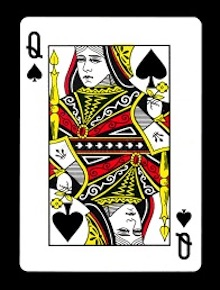QueenOfSpades: (18, 13, 204, 276)
